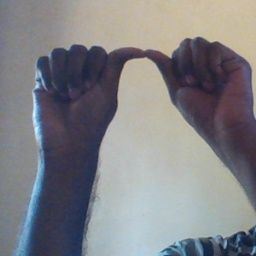A: (31, 34, 245, 150)
